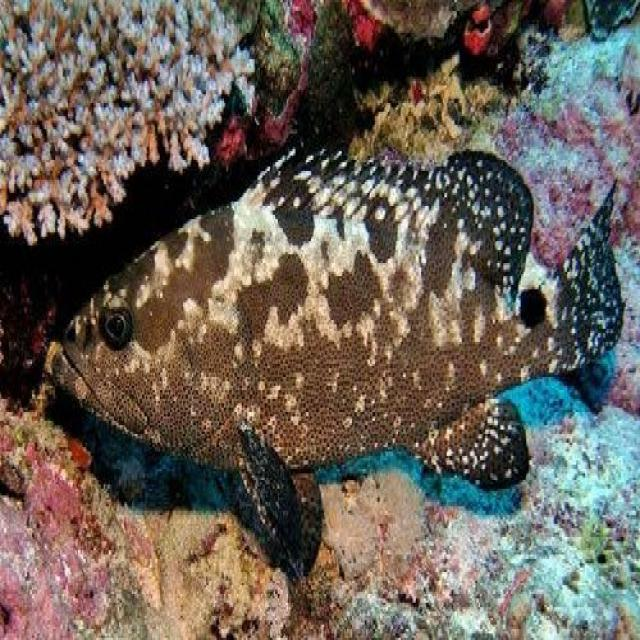grouper: (49, 140, 619, 582)
